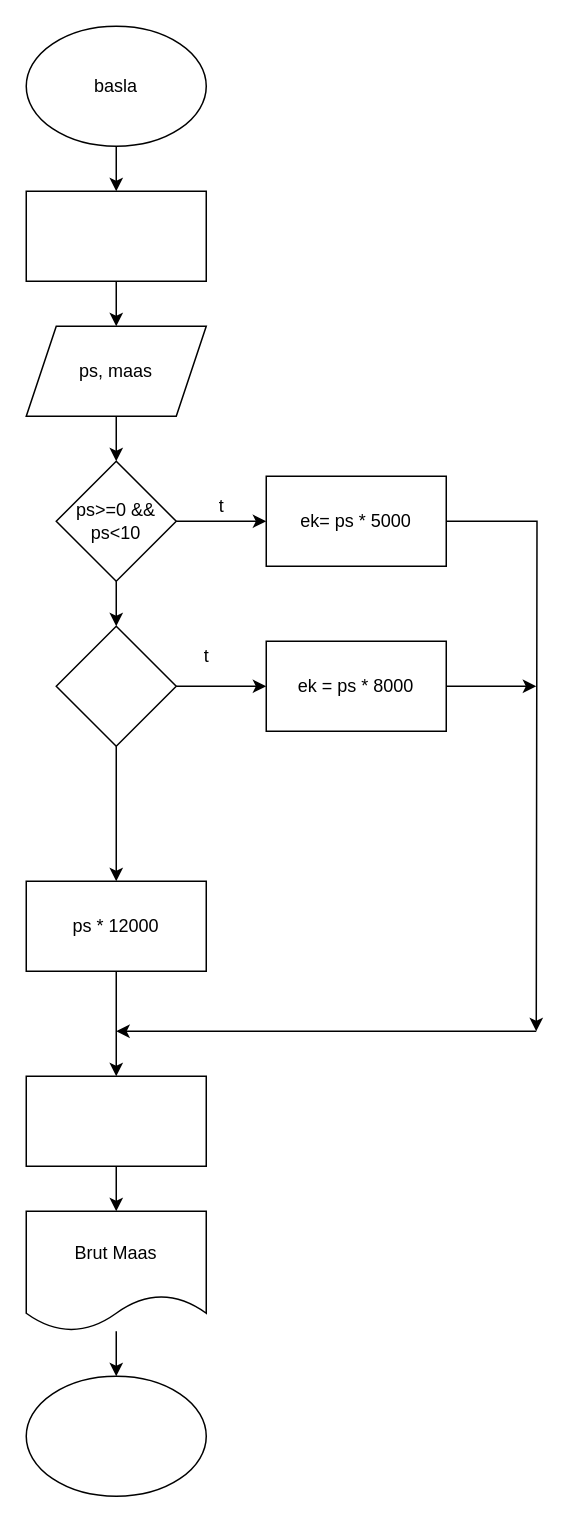
The diagram is 576 pixels wide and 1523 high, and some of its shapes have lost their labels. Each missing label, with the box of its shape:
bitir: (25, 1375, 206, 1496)
Brut Maas = maas + ek: (25, 1075, 206, 1166)
maas: (25, 190, 206, 281)
ps>=10 && ps<30: (55, 625, 176, 746)
